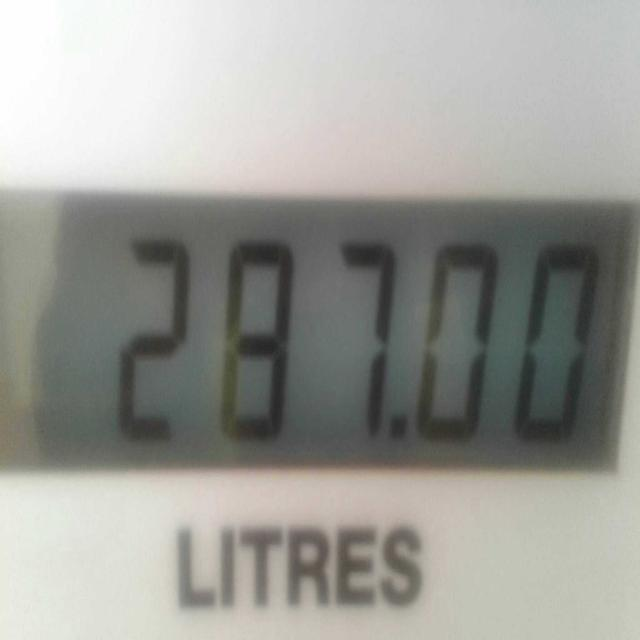.: (386, 402, 409, 462)
0: (512, 225, 591, 462), (413, 241, 496, 454)
2: (105, 214, 199, 458)
7: (322, 232, 395, 447)
8: (211, 226, 308, 449)
